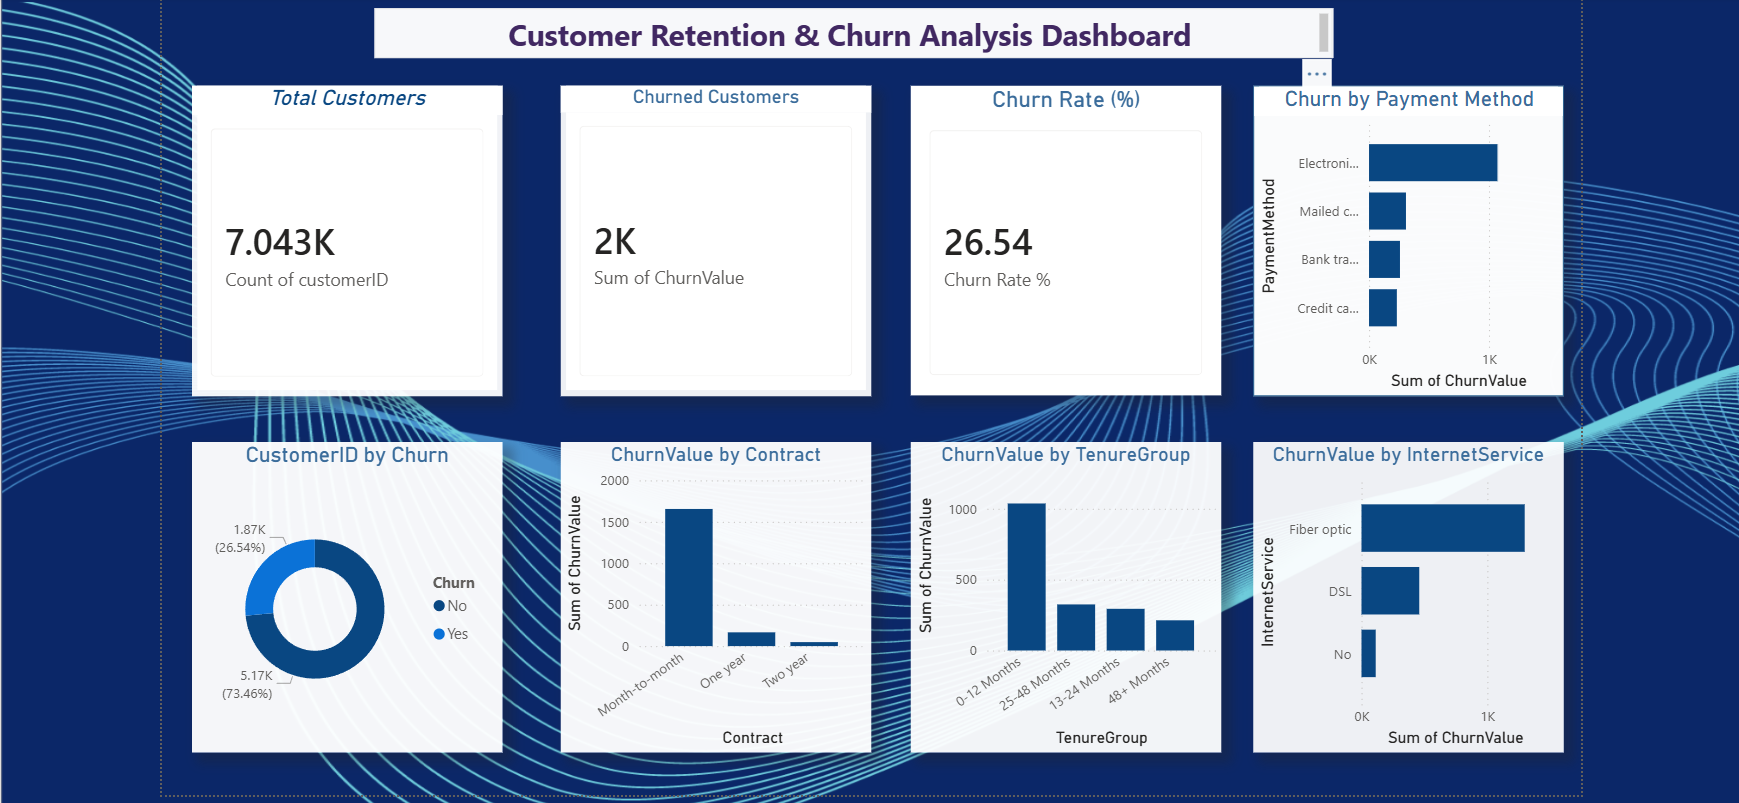

This screenshot's page, from the dashboard's own definition file:
{"tool":"powerbi","page":{"name":"Page 1","canvas":[1280,720],"ordinal":0},"visuals":[{"type":"cardVisual","title":"Total Customers","fields":{"Data":["CountNonNull(WA_Fn-UseC_-Telco-Customer-Chur.customerID)"]},"box":[27.1,80,280,280],"z":0},{"type":"cardVisual","title":"Churned Customers","fields":{"Data":["Sum(WA_Fn-UseC_-Telco-Customer-Chur.ChurnValue)"]},"box":[360,80,280,280],"z":1000},{"type":"cardVisual","title":"Churn Rate (%)","fields":{"Data":["WA_Fn-UseC_-Telco-Customer-Chur.Churn Rate %"]},"box":[675.3,80,280,278.8],"z":2000},{"type":"donutChart","title":"CustomerID by Churn","fields":{"Category":["WA_Fn-UseC_-Telco-Customer-Chur.Churn"],"Y":["CountNonNull(WA_Fn-UseC_-Telco-Customer-Chur.customerID)"]},"box":[27.5,401.2,280,280],"z":3000},{"type":"clusteredColumnChart","title":"ChurnValue by Contract","fields":{"Category":["WA_Fn-UseC_-Telco-Customer-Chur.Contract"],"Y":["Sum(WA_Fn-UseC_-Telco-Customer-Chur.ChurnValue)"]},"box":[359.5,401.1,280,280],"z":4000},{"type":"clusteredColumnChart","title":"ChurnValue by TenureGroup","fields":{"Category":["WA_Fn-UseC_-Telco-Customer-Chur.TenureGroup"],"Y":["Sum(WA_Fn-UseC_-Telco-Customer-Chur.ChurnValue)"]},"box":[675,401.2,280,280],"z":5000},{"type":"clusteredBarChart","title":"ChurnValue by InternetService","fields":{"Category":["WA_Fn-UseC_-Telco-Customer-Chur.InternetService"],"Y":["Sum(WA_Fn-UseC_-Telco-Customer-Chur.ChurnValue)"]},"box":[983.8,401.2,280,280],"z":6000},{"type":"clusteredBarChart","title":"Churn by Payment Method","fields":{"Category":["WA_Fn-UseC_-Telco-Customer-Chur.PaymentMethod"],"Y":["Sum(WA_Fn-UseC_-Telco-Customer-Chur.ChurnValue)"]},"box":[983.5,80,280,280],"z":7000},{"type":"textbox","box":[191.8,10.6,864.7,44.7],"z":7001}]}

Visuals, with their boxes in screenshot pixels (x1, y1, x2, y2):
"Total Customers" cardVisual: x1=193, y1=83, x2=500, y2=391
"Churned Customers" cardVisual: x1=558, y1=83, x2=866, y2=391
"Churn Rate (%)" cardVisual: x1=904, y1=83, x2=1212, y2=389
"CustomerID by Churn" donutChart: x1=193, y1=436, x2=501, y2=743
"ChurnValue by Contract" clusteredColumnChart: x1=558, y1=436, x2=865, y2=743
"ChurnValue by TenureGroup" clusteredColumnChart: x1=904, y1=436, x2=1212, y2=743
"ChurnValue by InternetService" clusteredBarChart: x1=1243, y1=436, x2=1551, y2=743
"Churn by Payment Method" clusteredBarChart: x1=1243, y1=83, x2=1550, y2=391
textbox: x1=374, y1=7, x2=1323, y2=56
